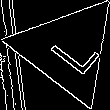L_NW: (36, 22, 98, 78)
